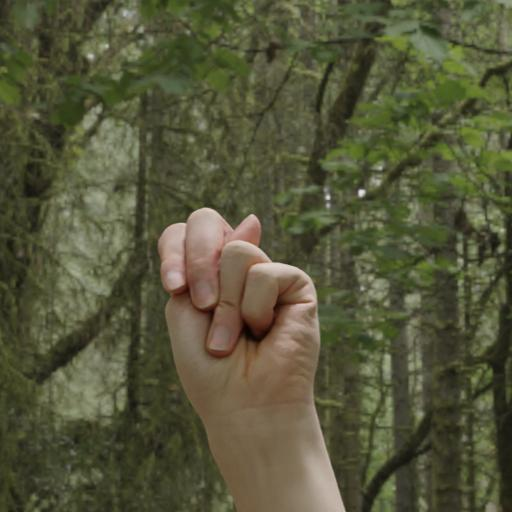N: (122, 184, 336, 428)
